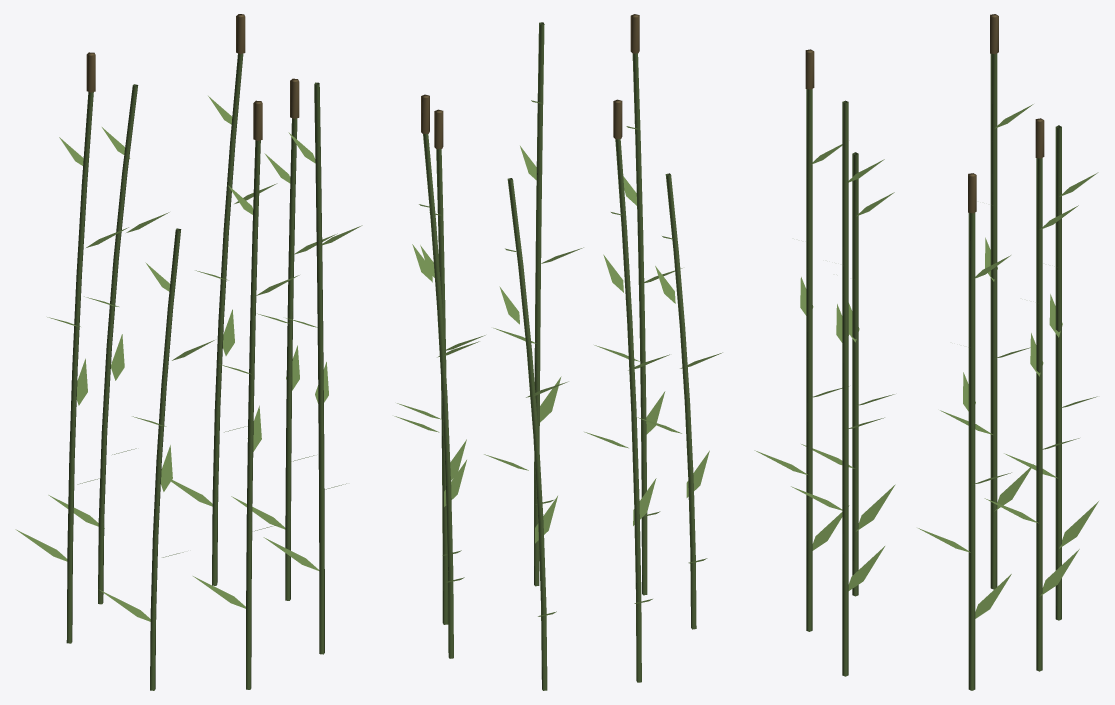
The model's file is lake-rdest-shallows-0.glb.
3 views of the same model, side by side, from view 1: azimuth 30°, elevation 25°; view 2: azimuth 150°, elevation 25°; view 3: azimuth 270°, elevation 25° (orthographic).
Visible parts, largest first — view 1: lake-rdest-shallows-0; view 2: lake-rdest-shallows-0; view 3: lake-rdest-shallows-0.
Boxes of the visible parts, x1,y1,x2,y2 form: lake-rdest-shallows-0: (15,14,362,690); lake-rdest-shallows-0: (394,14,722,690); lake-rdest-shallows-0: (754,14,1098,690).
Bounding box in the file's own units: 0.4026 × 0.8008 × 0.4316.
